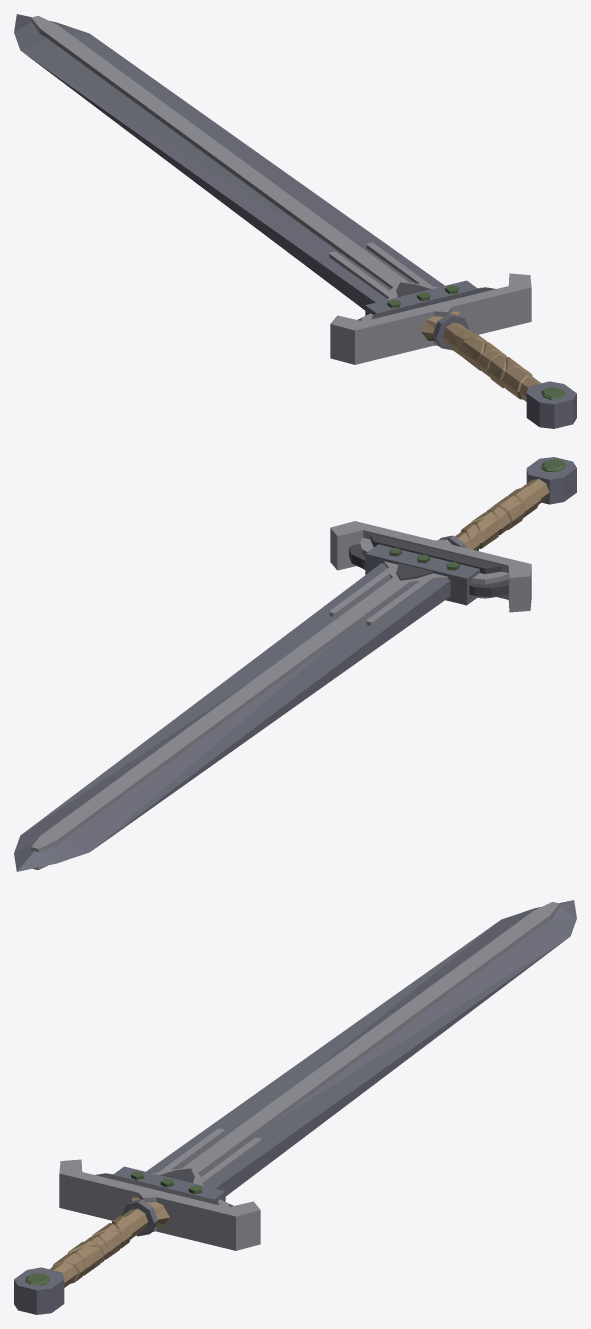
The model's file is sword_15.glb.
The picture shows the model from 3 angles, top to bottom: view 1: azimuth 30°, elevation 25°; view 2: azimuth 150°, elevation 25°; view 3: azimuth 330°, elevation 25°; orthographic projection.
Parts seen in each view (by area): view 1: sword_15; view 2: sword_15; view 3: sword_15.
Boxes of the visible parts, box(x1,y1,x2,y2) form: sword_15: box(14, 14, 576, 428); sword_15: box(14, 457, 576, 871); sword_15: box(14, 900, 576, 1314).
Size of the model in its own units: 0.2895 by 0.0476 by 1.37.
1 material, 1 textured.
